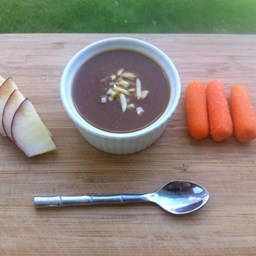background: (30, 26, 102, 57), (28, 19, 68, 53), (0, 29, 23, 62)
